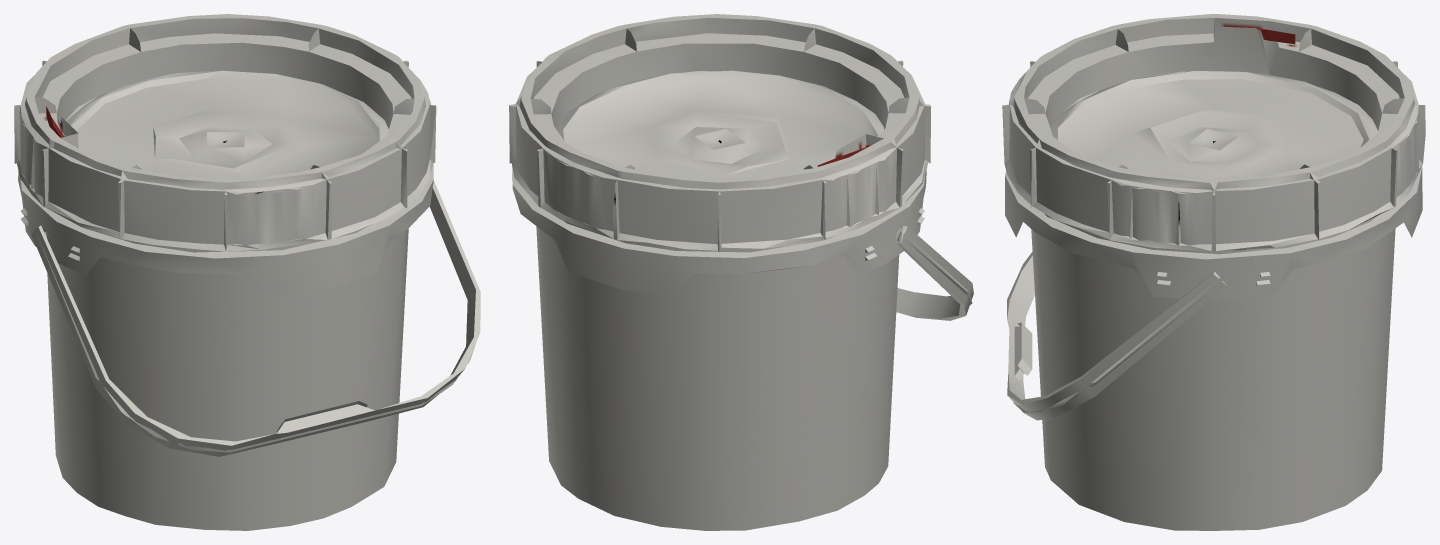
File: pail_screwtop_white_glossy_a01.glb
The picture shows the model from 3 angles, left to right: view 1: azimuth 30°, elevation 25°; view 2: azimuth 150°, elevation 25°; view 3: azimuth 270°, elevation 25°; orthographic projection.
Visible parts, largest first — view 1: pail_screwtop_white_glossy_a01_lod1; view 2: pail_screwtop_white_glossy_a01_lod1; view 3: pail_screwtop_white_glossy_a01_lod1.
Boxes of the visible parts, x1,y1,x2,y2 form: pail_screwtop_white_glossy_a01_lod1: (14,14,480,530); pail_screwtop_white_glossy_a01_lod1: (509,14,973,530); pail_screwtop_white_glossy_a01_lod1: (1002,14,1425,530).
Size of the model in its own units: 0.2708 by 0.2481 by 0.2619.
Materials: 1 (1 with a texture image).
